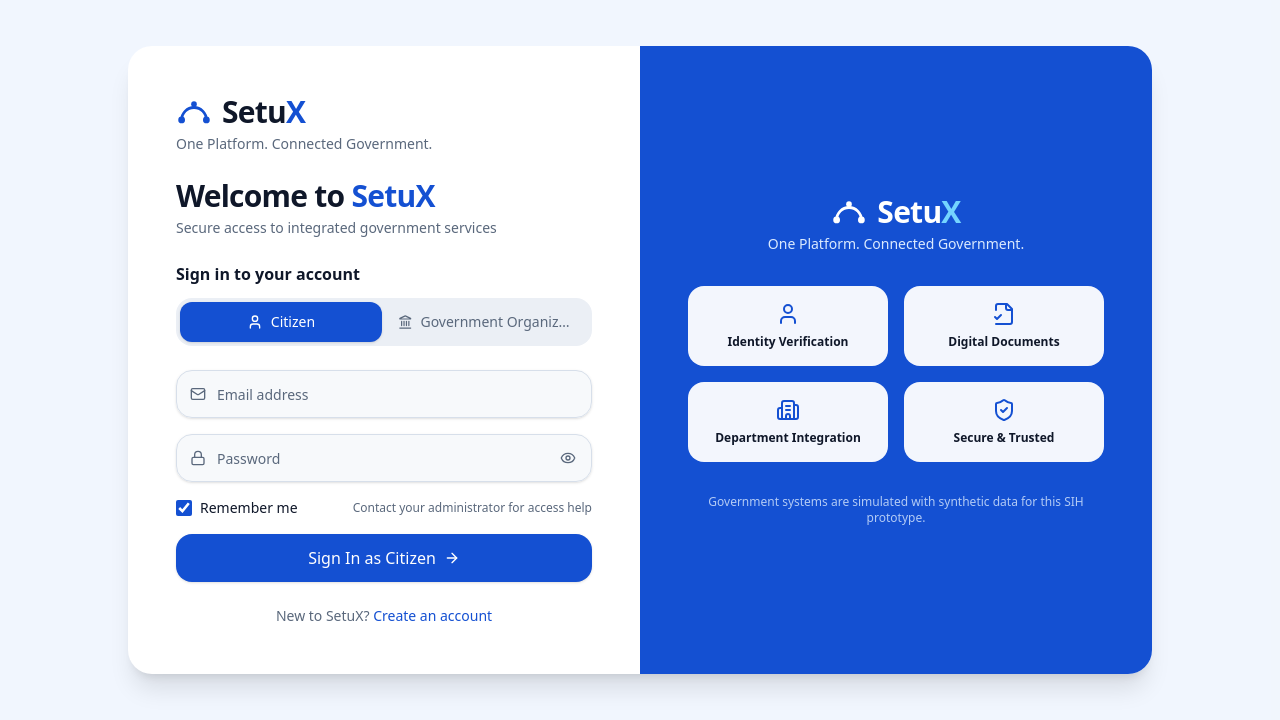
LoginPage › shows a safe message on invalid credentials and never the raw error
Type "citizen@example.com" into the field with placeholder "Email address" at (384, 394), box [176,370,592,418]
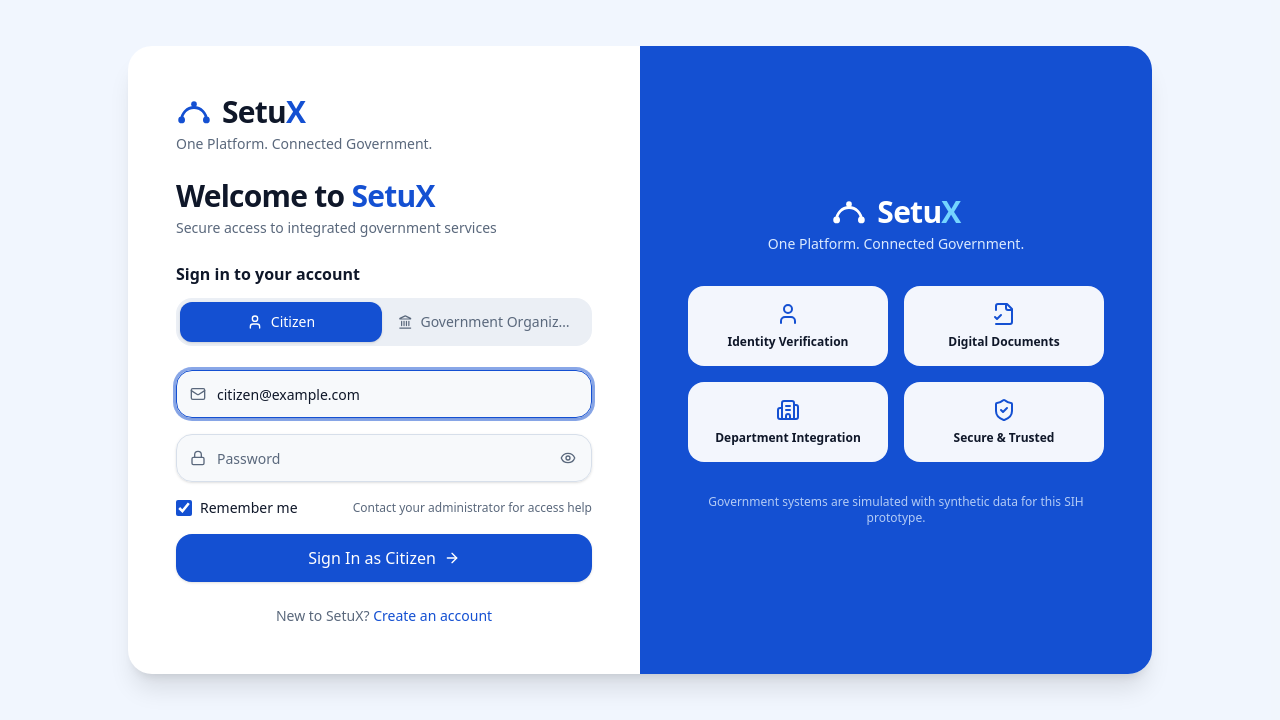
Type "wrong" into the password field with placeholder "Password" at (384, 458), box [176,434,592,482]
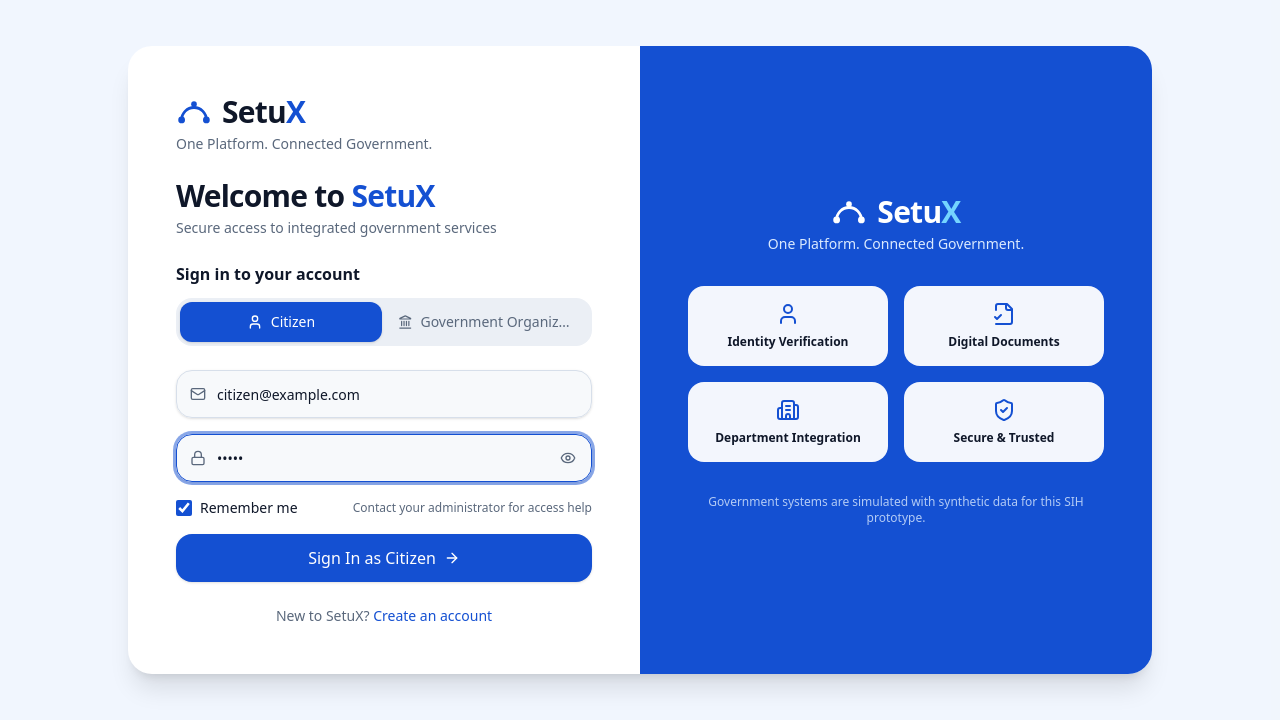
Click the button "Sign In as Citizen" at (384, 558), box [176,534,592,582]
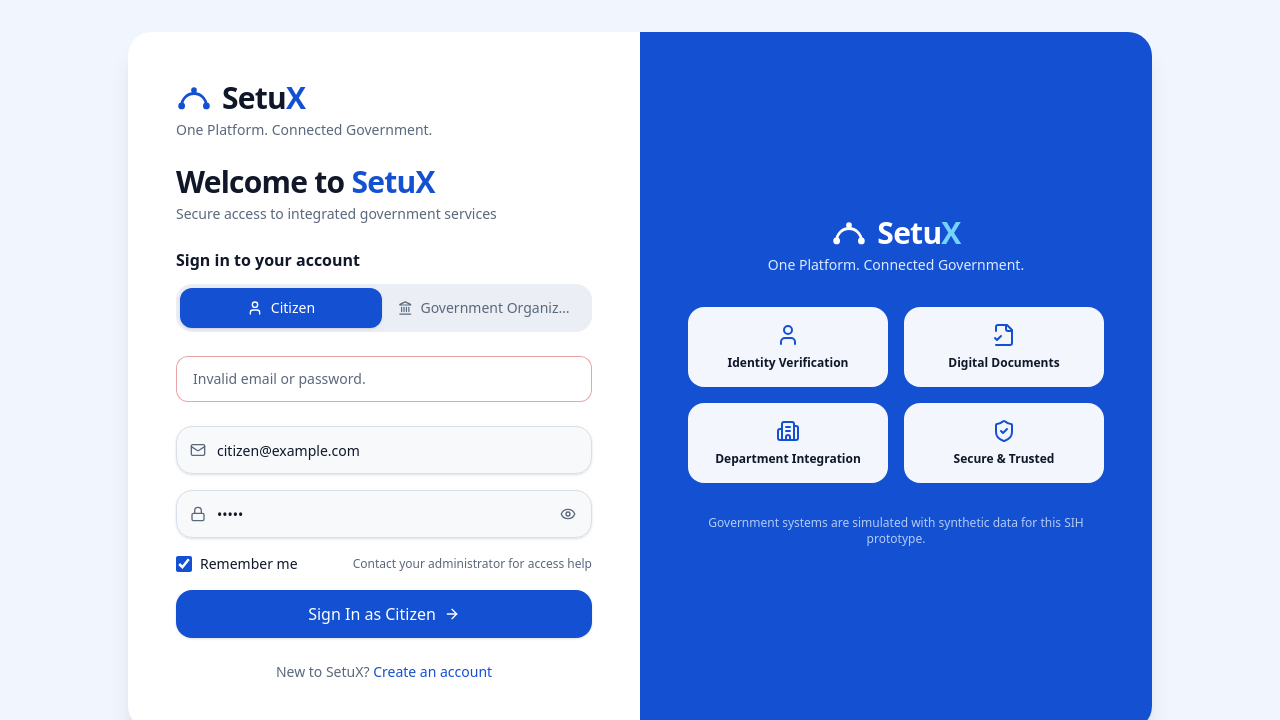
Check: the message reads "Invalid email or password.", box [193,369,366,388]
